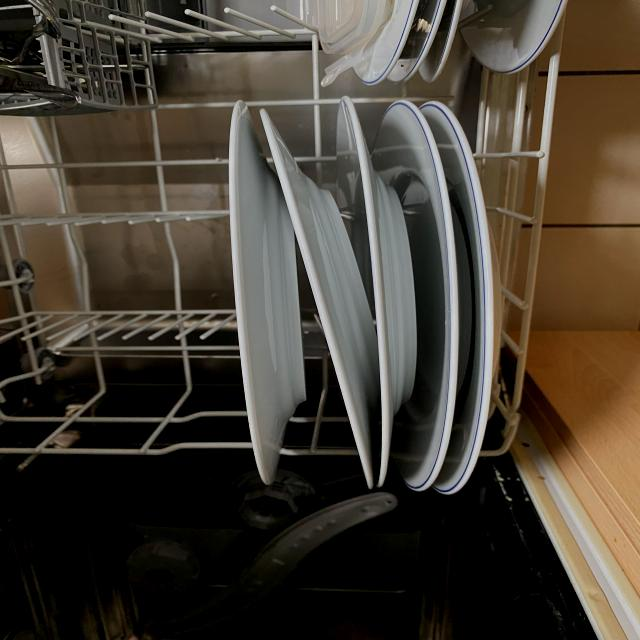empty_slot: (22, 125, 216, 430)
